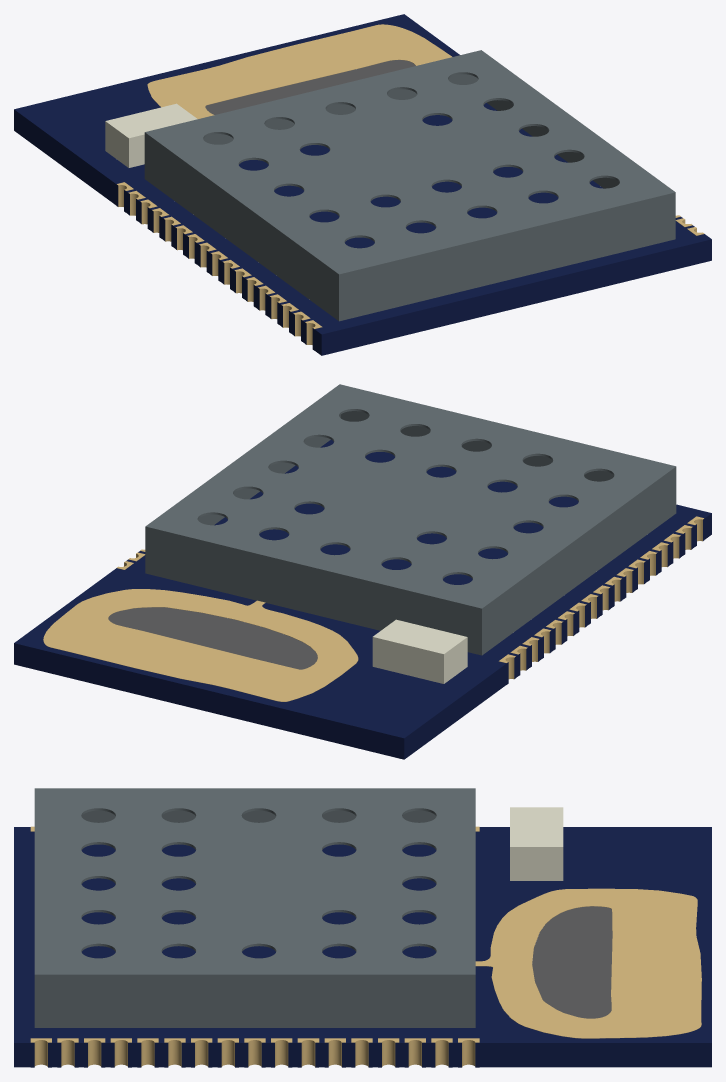
Rendered from kc-decawave_dwm1001.glb.
The picture shows the model from 3 angles, top to bottom: view 1: azimuth 30°, elevation 25°; view 2: azimuth 150°, elevation 25°; view 3: azimuth 270°, elevation 25°; orthographic projection. The views are drawn at different scales.
Visible parts, largest first — view 1: 0.16666666666666666_0.16666666666666666_0.16666666666666666_, 0_0_0.08333333333333333_0, 0.75_0.5_0.25_0.9, 0.75_0.75_0.6666666666666666_0, 0.08333333333333333_0.08333333333333333_0.08333333333333333_; view 2: 0.16666666666666666_0.16666666666666666_0.16666666666666666_, 0_0_0.08333333333333333_0, 0.75_0.5_0.25_0.9, 0.08333333333333333_0.08333333333333333_0.08333333333333333_, 0.75_0.75_0.6666666666666666_0; view 3: 0.16666666666666666_0.16666666666666666_0.16666666666666666_, 0_0_0.08333333333333333_0, 0.75_0.5_0.25_0.9, 0.08333333333333333_0.08333333333333333_0.08333333333333333_, 0.75_0.75_0.6666666666666666_0.
Part boxes in pixels (<box>): 0.16666666666666666_0.16666666666666666_0.16666666666666666_: <box>144,50,675,321</box>; 0_0_0.08333333333333333_0: <box>14,14,711,355</box>; 0.75_0.5_0.25_0.9: <box>117,24,704,344</box>; 0.75_0.75_0.6666666666666666_0: <box>105,103,197,167</box>; 0.08333333333333333_0.08333333333333333_0.08333333333333333_: <box>205,60,415,114</box>; 0.16666666666666666_0.16666666666666666_0.16666666666666666_: <box>145,384,676,655</box>; 0_0_0.08333333333333333_0: <box>14,439,711,759</box>; 0.75_0.5_0.25_0.9: <box>43,516,703,701</box>; 0.08333333333333333_0.08333333333333333_0.08333333333333333_: <box>108,607,317,669</box>; 0.75_0.75_0.6666666666666666_0: <box>372,619,467,683</box>; 0.16666666666666666_0.16666666666666666_0.16666666666666666_: <box>34,788,475,1027</box>; 0_0_0.08333333333333333_0: <box>14,827,711,1067</box>; 0.75_0.5_0.25_0.9: <box>30,826,701,1067</box>; 0.08333333333333333_0.08333333333333333_0.08333333333333333_: <box>532,906,612,1018</box>; 0.75_0.75_0.6666666666666666_0: <box>510,807,563,880</box>.
Size of the model in its own units: 1.91 by 0.321 by 2.61.
